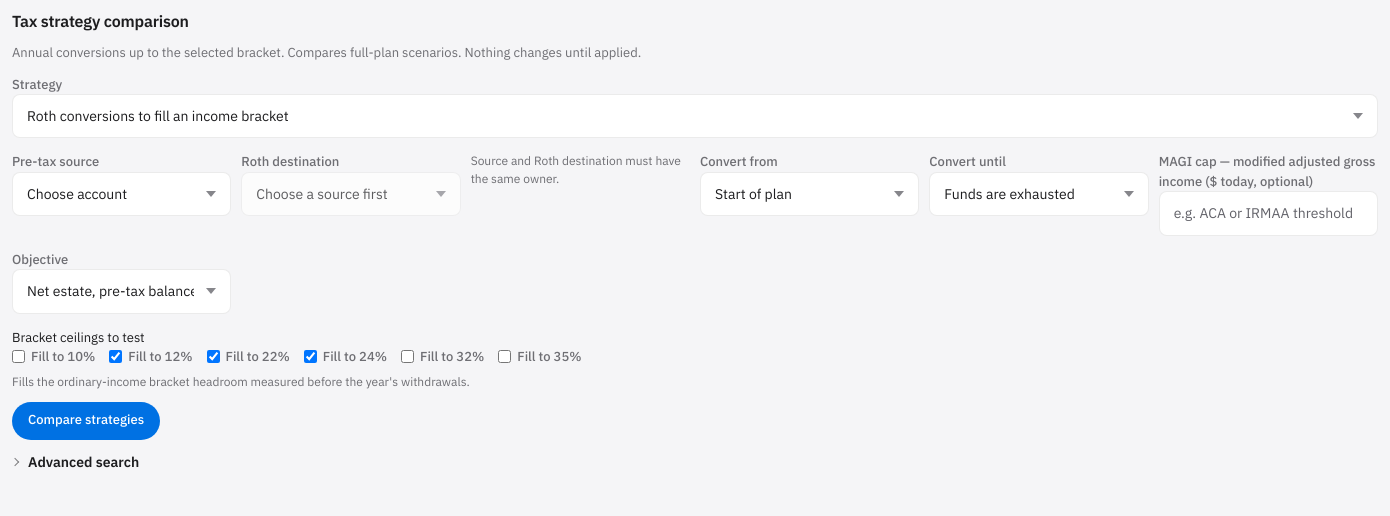
it: TaxStrategyOptimizer › validates inputs and reports comparison failures without changing the plan
expect the dropdown labelled "Pre-tax source" is shown: met, box [12,172,231,216]
Submit the form named "Compare strategies"
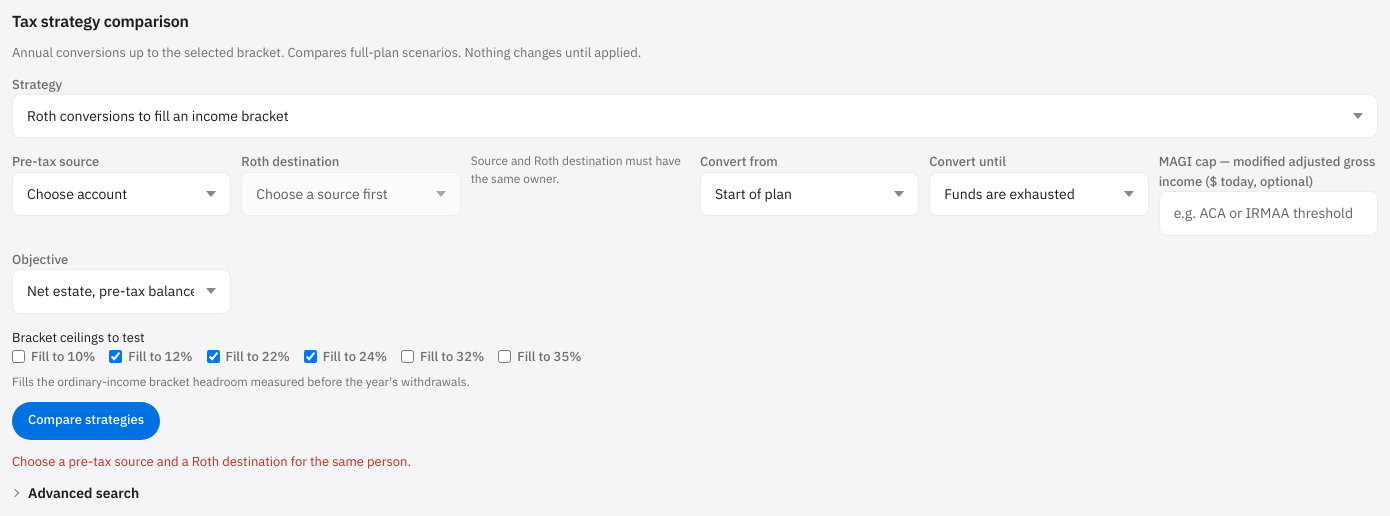
expect the message shows "Choose a pre-tax source": met, box [12,453,411,470]
Select "IRA (Primary person)" in the dropdown labelled "Pre-tax source" at (122, 194), box [12,172,231,216]
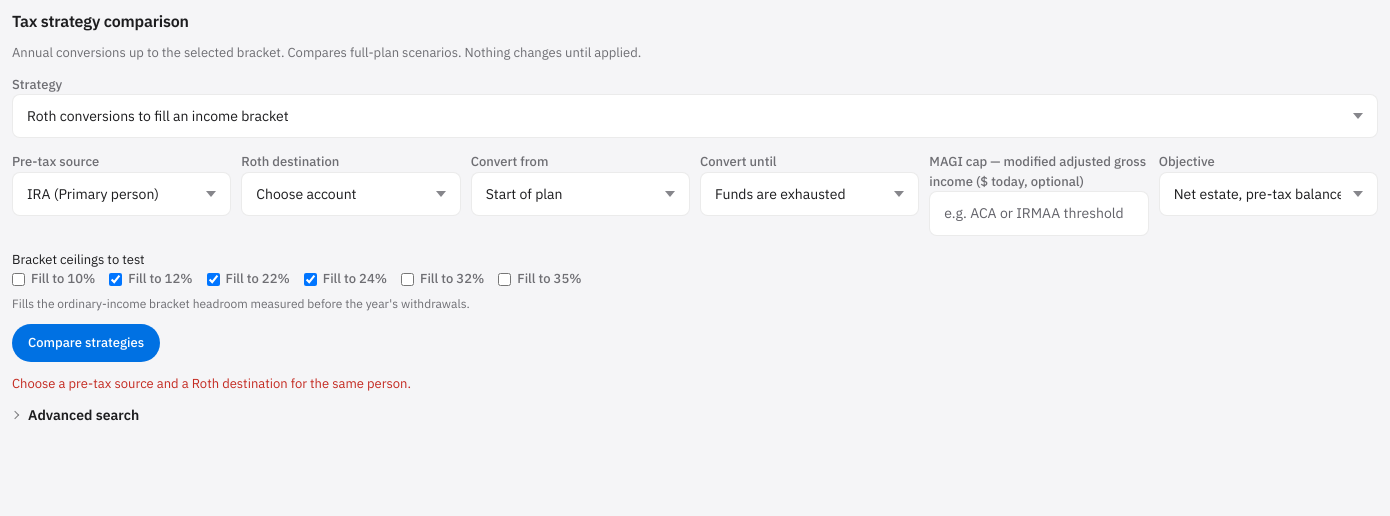
Select "Roth (Primary person)" in the dropdown labelled "Roth destination" at (351, 194), box [241,172,461,216]
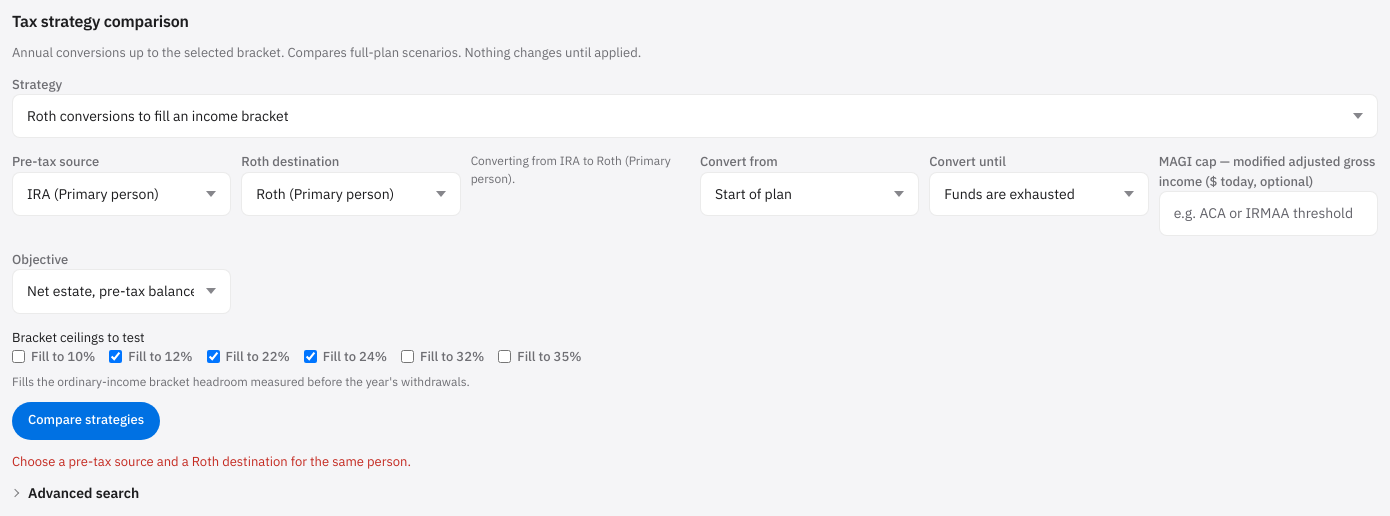
Click the button "Compare strategies" at (86, 421), box [12,402,160,440]
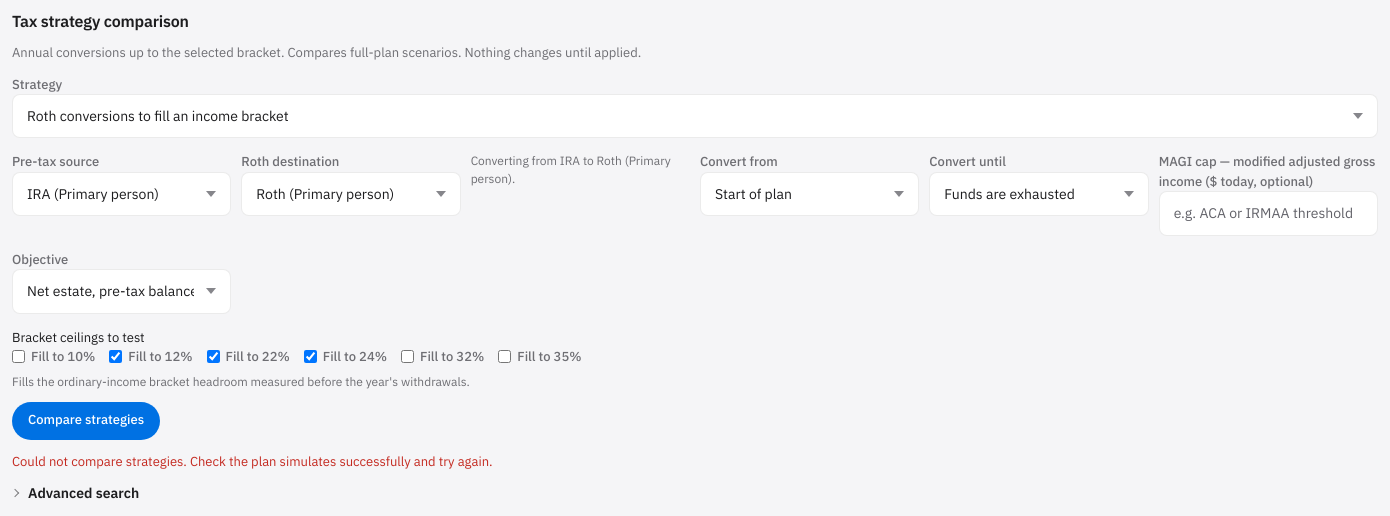
expect the message shows "Could not compare": met, box [12,453,493,470]
